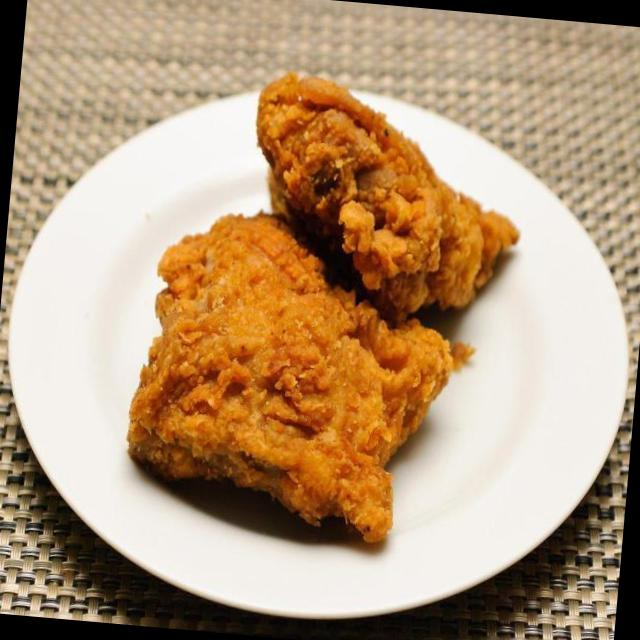Fried Chicken: (124, 74, 514, 548), (255, 73, 519, 328)
